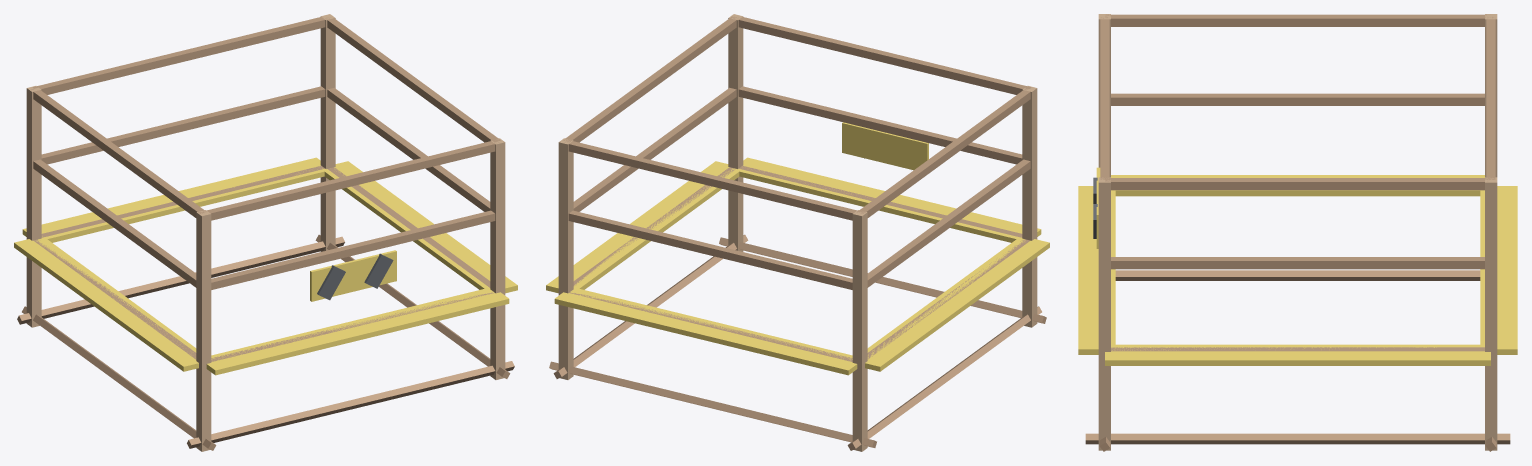
Rendered from scaffold.glb.
3 renders of one model, left to right at view 1: azimuth 30°, elevation 25°; view 2: azimuth 150°, elevation 25°; view 3: azimuth 270°, elevation 25°, orthographic. The views are drawn at different scales.
Visible parts, largest first — view 1: main; view 2: main; view 3: main.
Part boxes in pixels (x1,y1,x2,y2): main: [14, 14, 517, 451]; main: [546, 14, 1049, 451]; main: [1078, 14, 1517, 451].
Size of the model in its own units: 1.41 by 0.95 by 1.41.
